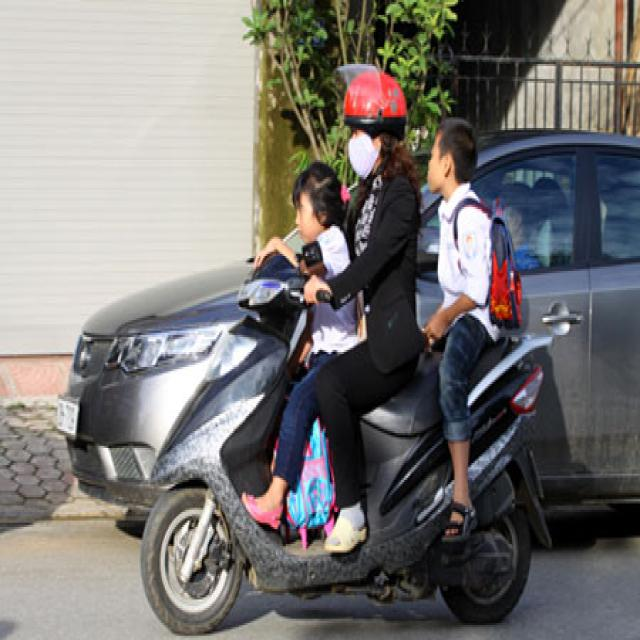helmet: (343, 67, 406, 127)
no_helmet: (288, 152, 352, 250), (426, 111, 483, 206)
